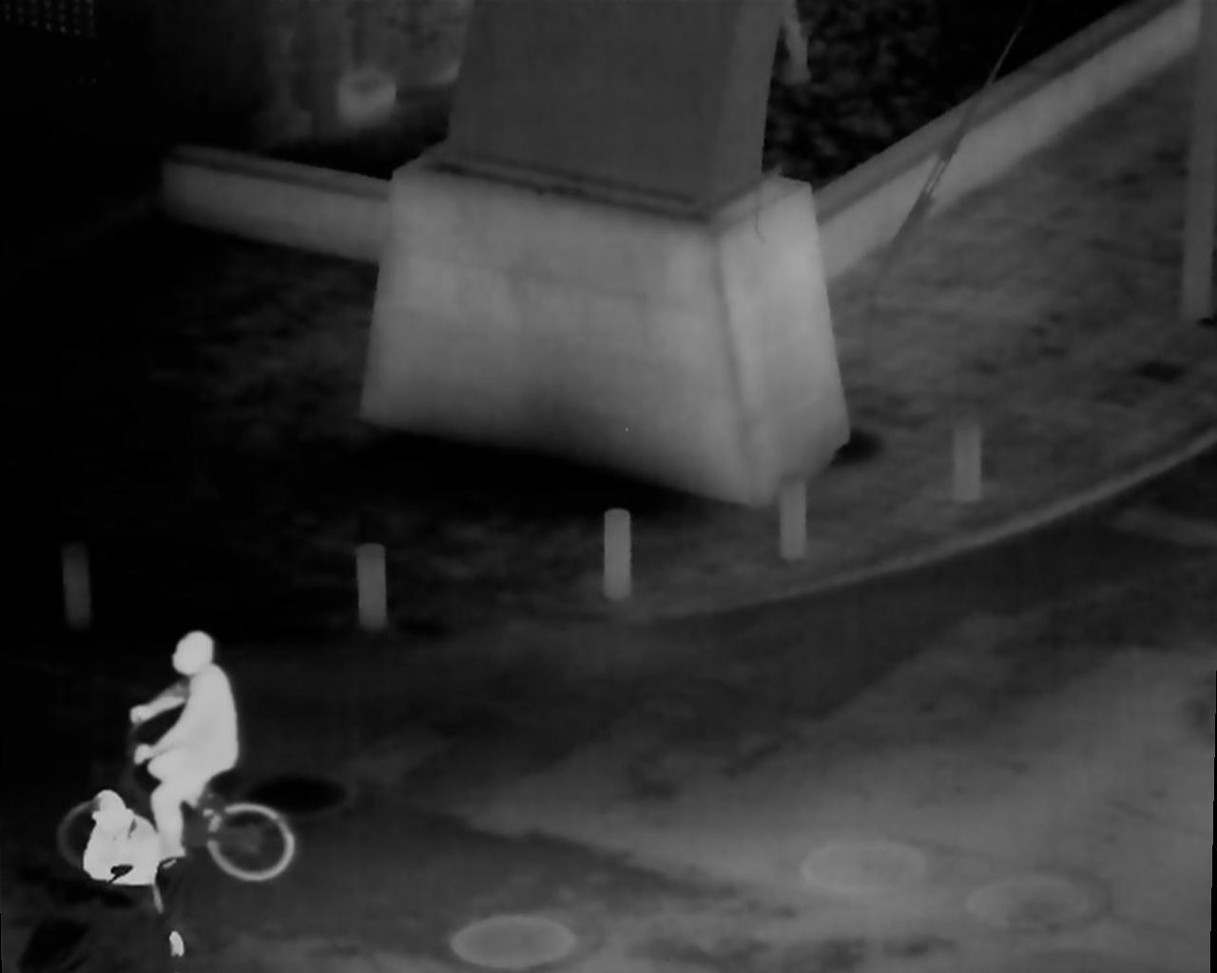person: (133, 630, 247, 876), (82, 792, 176, 959)
